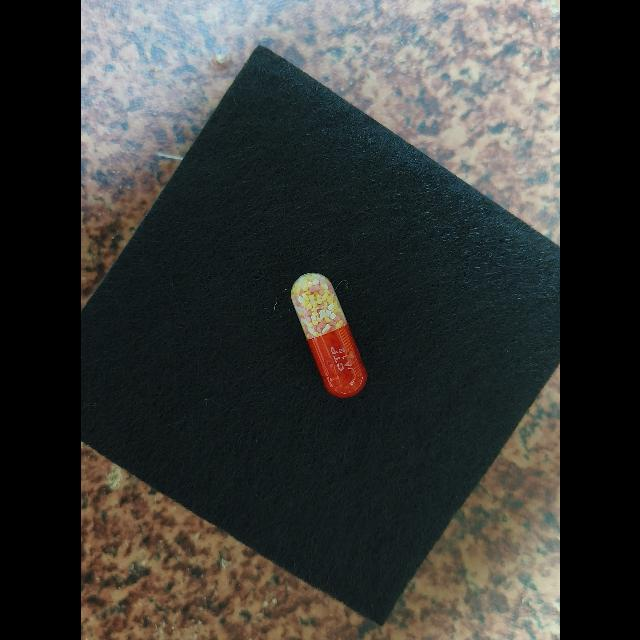Intact Capsule: (290, 273, 367, 398)
